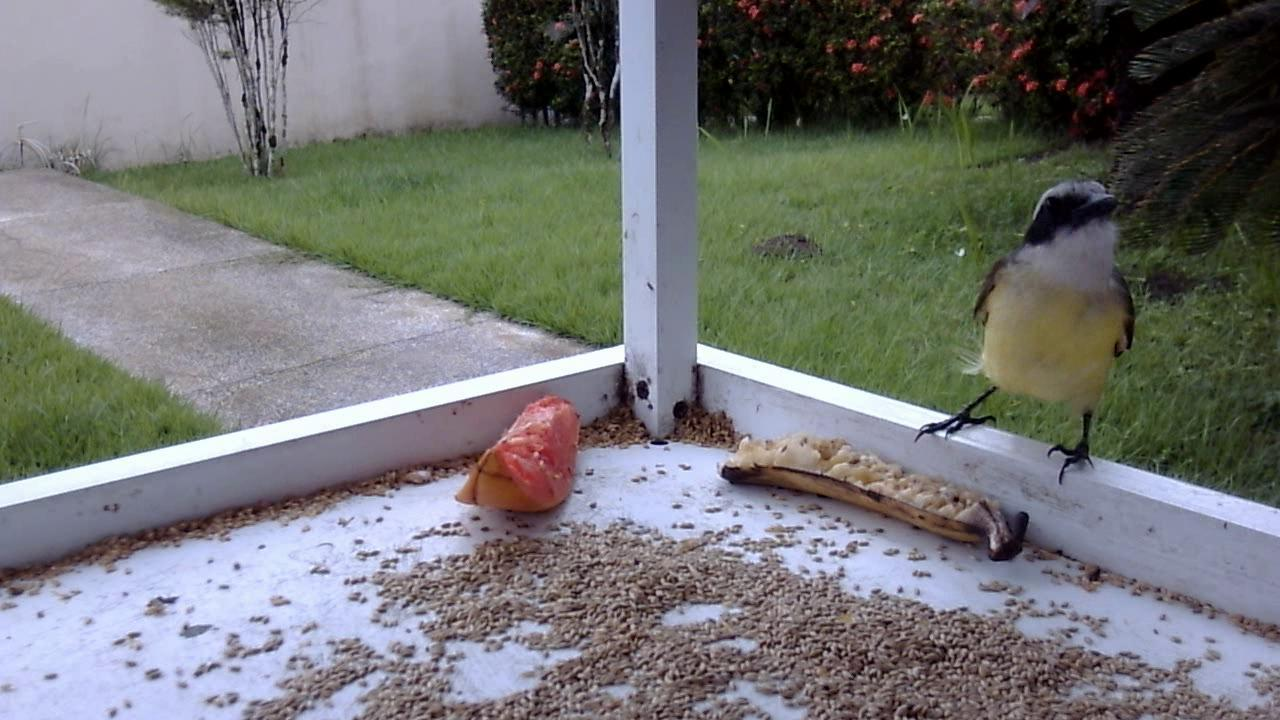bem_te_vi: (904, 165, 1141, 500)
